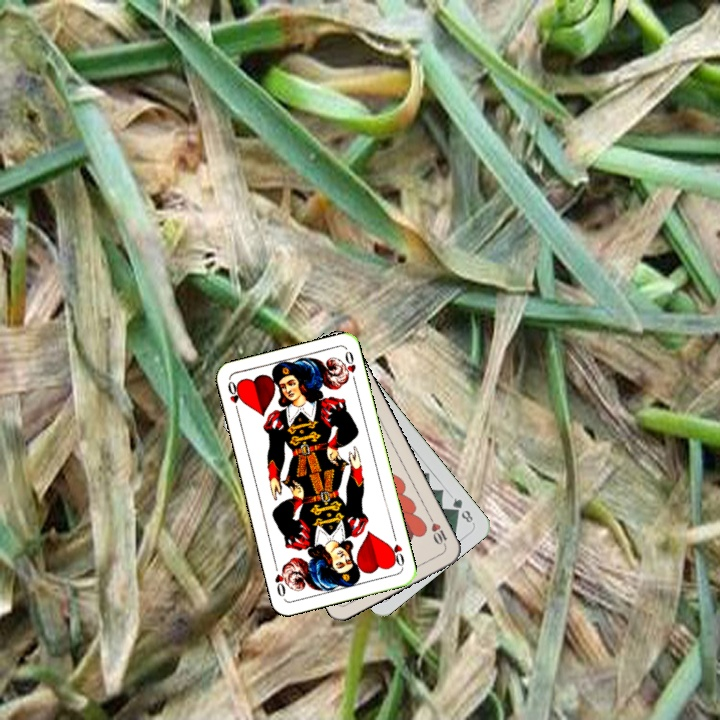G8: (448, 494, 476, 526)
H10: (425, 512, 450, 549)
HO: (385, 530, 407, 570), (223, 377, 244, 417)
